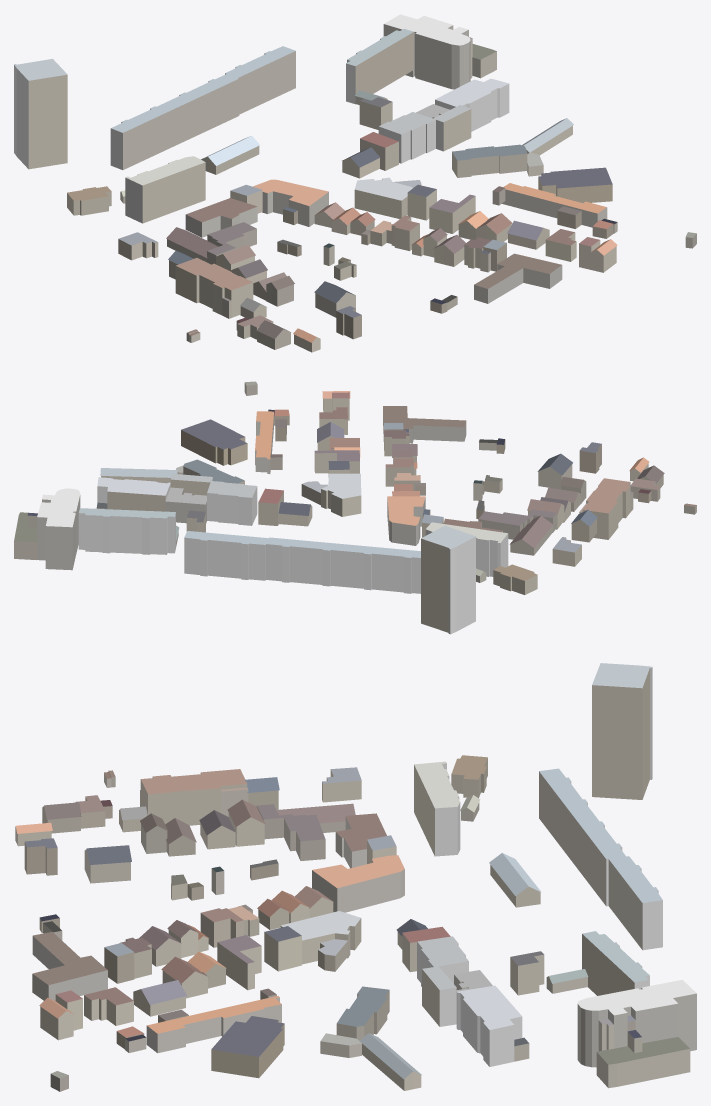
3 renders of one model, top to bottom at view 1: azimuth 30°, elevation 25°; view 2: azimuth 150°, elevation 25°; view 3: azimuth 270°, elevation 25°, orthographic. The views are drawn at different scales.
Parts seen in each view (by area): view 1: tuile; view 2: tuile; view 3: tuile.
Boxes of the visible parts, x1,y1,x2,y2 form: tuile: (14, 14, 696, 352); tuile: (14, 381, 696, 634); tuile: (15, 663, 696, 1091).
Size of the model in its own units: 259 by 57.43 by 239.
